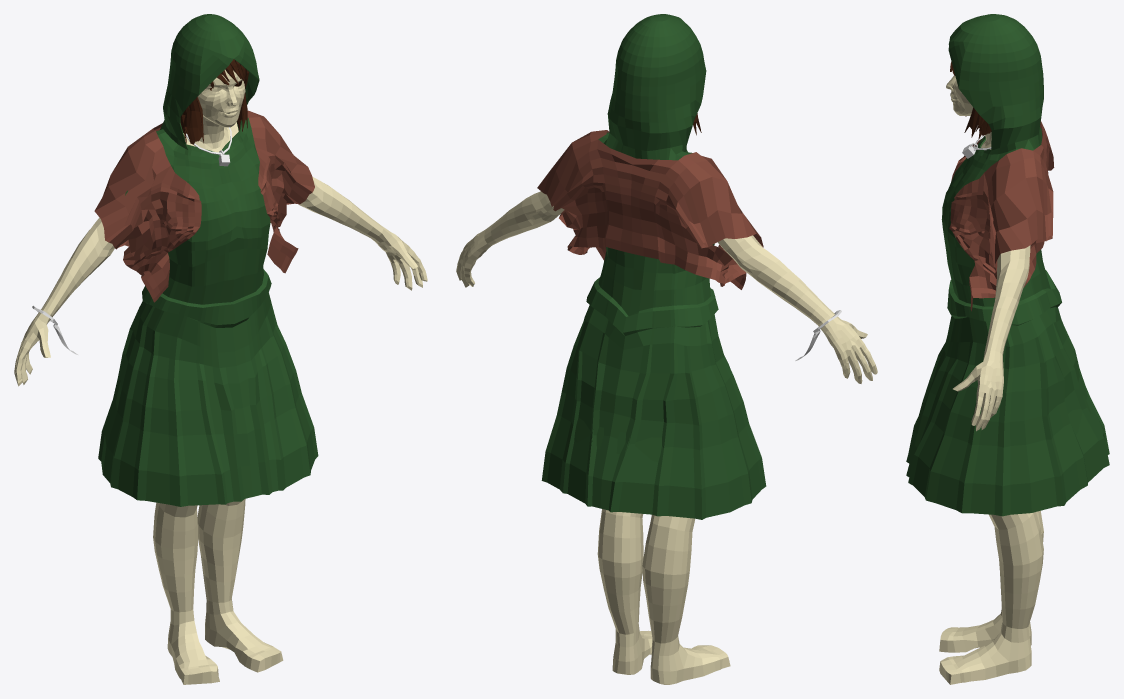
Rendered from WitchChar V12.fbx.
3 renders of one model, left to right at view 1: azimuth 30°, elevation 25°; view 2: azimuth 150°, elevation 25°; view 3: azimuth 270°, elevation 25°, orthographic.
Visible parts, largest first — view 1: clothing, BODY, Plane, hair; view 2: clothing, BODY, Plane; view 3: clothing, BODY, Plane, hair.
Boxes of the visible parts, box(x1,y1,x2,y2) form: clothing: box(98, 14, 318, 506); BODY: box(14, 69, 427, 684); Plane: box(94, 110, 314, 302); hair: box(180, 59, 249, 144); clothing: box(541, 14, 766, 519); BODY: box(456, 191, 877, 684); Plane: box(537, 130, 763, 289); clothing: box(906, 14, 1109, 516); BODY: box(939, 75, 1043, 684); Plane: box(949, 121, 1054, 311); hair: box(950, 61, 991, 139).
Size of the model in its own units: 526 by 784 by 225.
